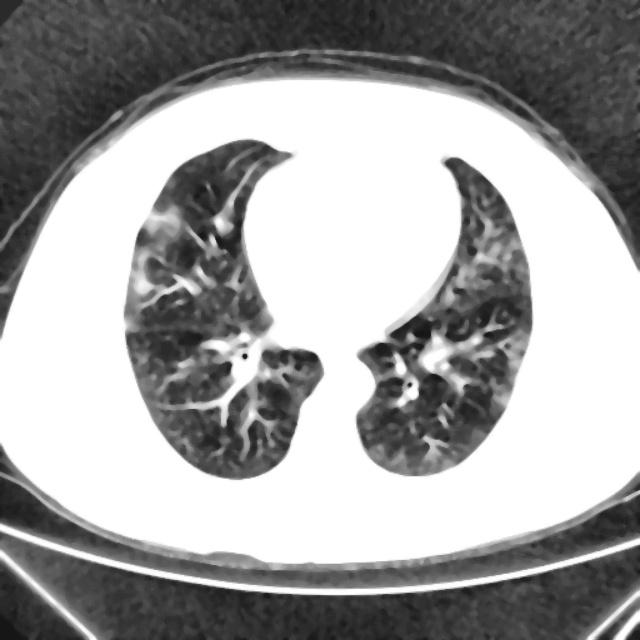covid: (122, 137, 324, 479), (354, 155, 533, 476)
